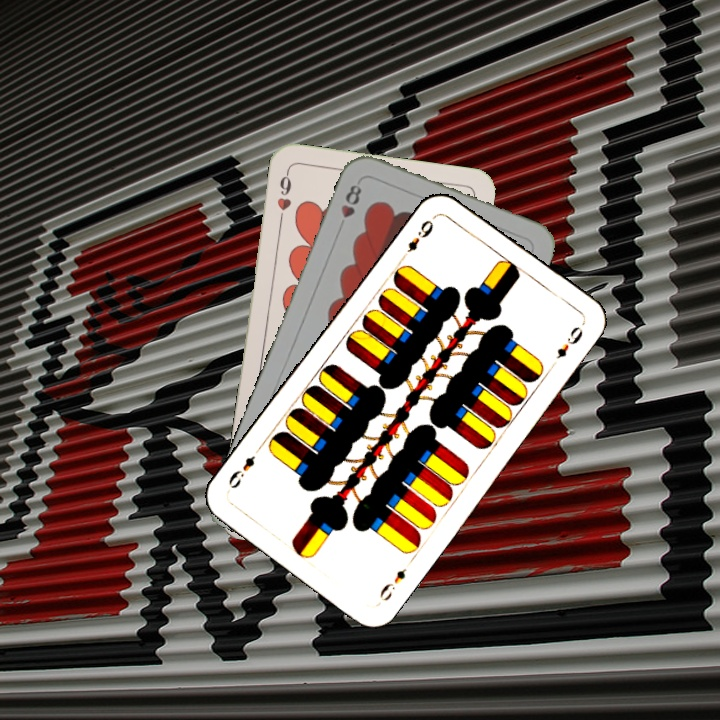E9: (397, 216, 437, 262), (374, 564, 409, 606)
H8: (337, 180, 365, 220)
H9: (273, 167, 294, 226)
